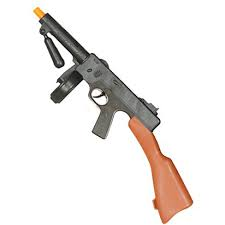Arma Falsa: (33, 7, 194, 219)
